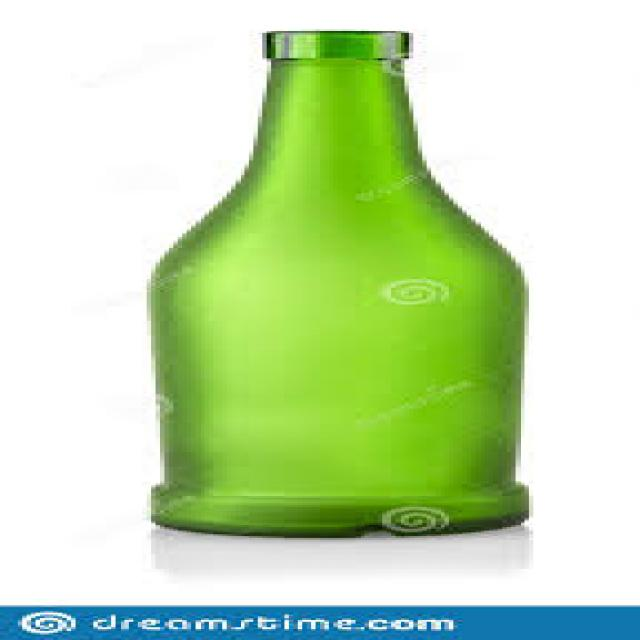Glass-Non-Biodegradable but Recyclable-: (144, 31, 539, 539)
